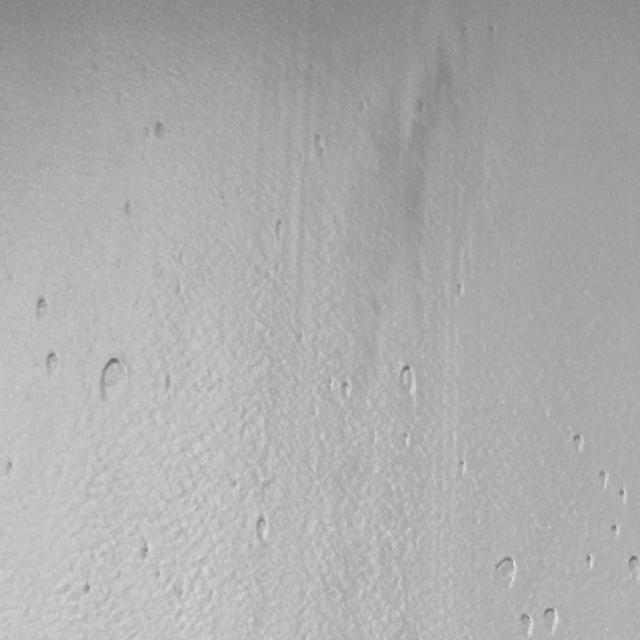pin holes: (96, 354, 130, 404), (490, 556, 518, 590), (394, 363, 418, 397), (540, 605, 560, 636), (32, 294, 52, 324), (41, 350, 61, 378), (150, 119, 171, 143), (517, 611, 535, 638), (252, 516, 270, 543), (310, 132, 328, 158), (120, 197, 139, 220), (339, 380, 356, 405), (161, 373, 177, 397), (484, 21, 502, 42), (274, 216, 286, 247), (571, 434, 587, 456), (452, 280, 468, 302), (398, 428, 414, 450), (626, 556, 640, 580), (596, 468, 609, 490), (229, 474, 243, 494), (610, 521, 624, 540), (138, 544, 152, 563), (455, 458, 467, 480), (584, 551, 596, 572), (5, 461, 18, 480), (617, 489, 630, 505), (84, 581, 96, 598)
